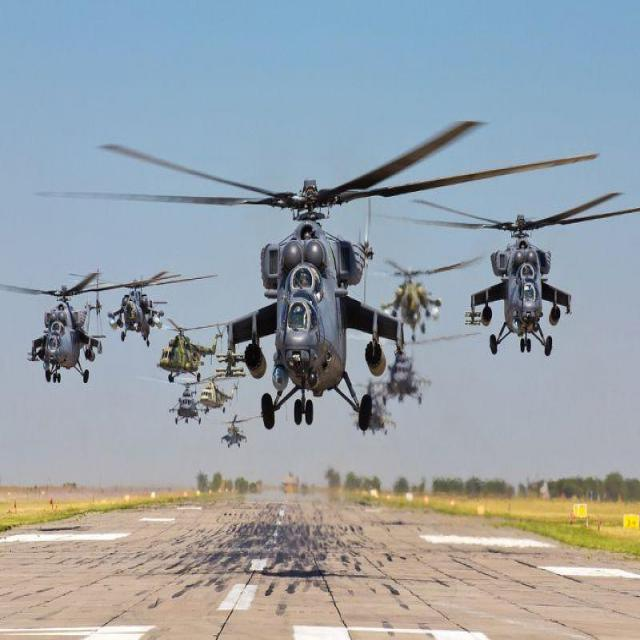MIL_HELO: (53, 113, 592, 431), (400, 174, 636, 362), (0, 264, 109, 393), (356, 247, 483, 337), (80, 255, 195, 338), (115, 296, 225, 378), (360, 320, 440, 400), (181, 358, 250, 428), (212, 404, 262, 450), (158, 374, 202, 425)
